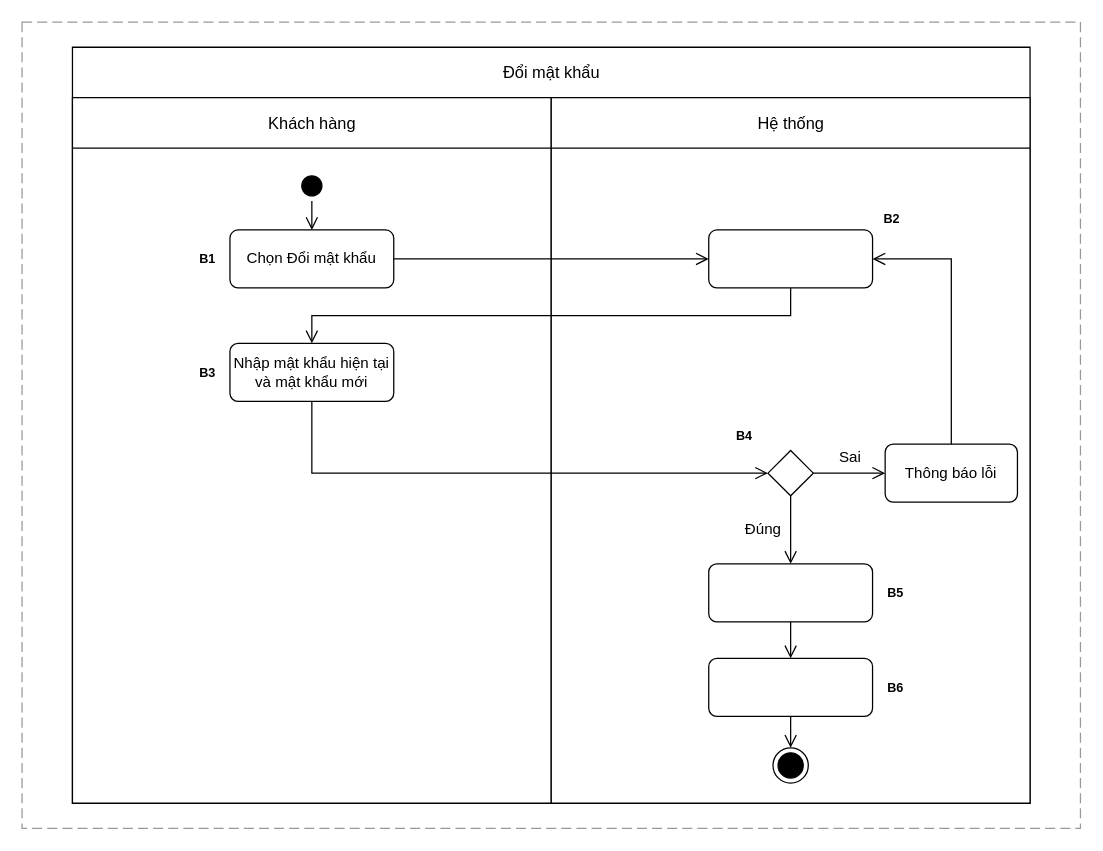
Image size: 1103x851. Some labels were removed from this diagram. The centre of each missing label's shape, as x and y in pixels:
Hiển thị form đổi mật khẩu: [790,258]
Lưu mật khẩu mới: [790,592]
Thông báo đổi mật khẩu thành công: [790,686]
